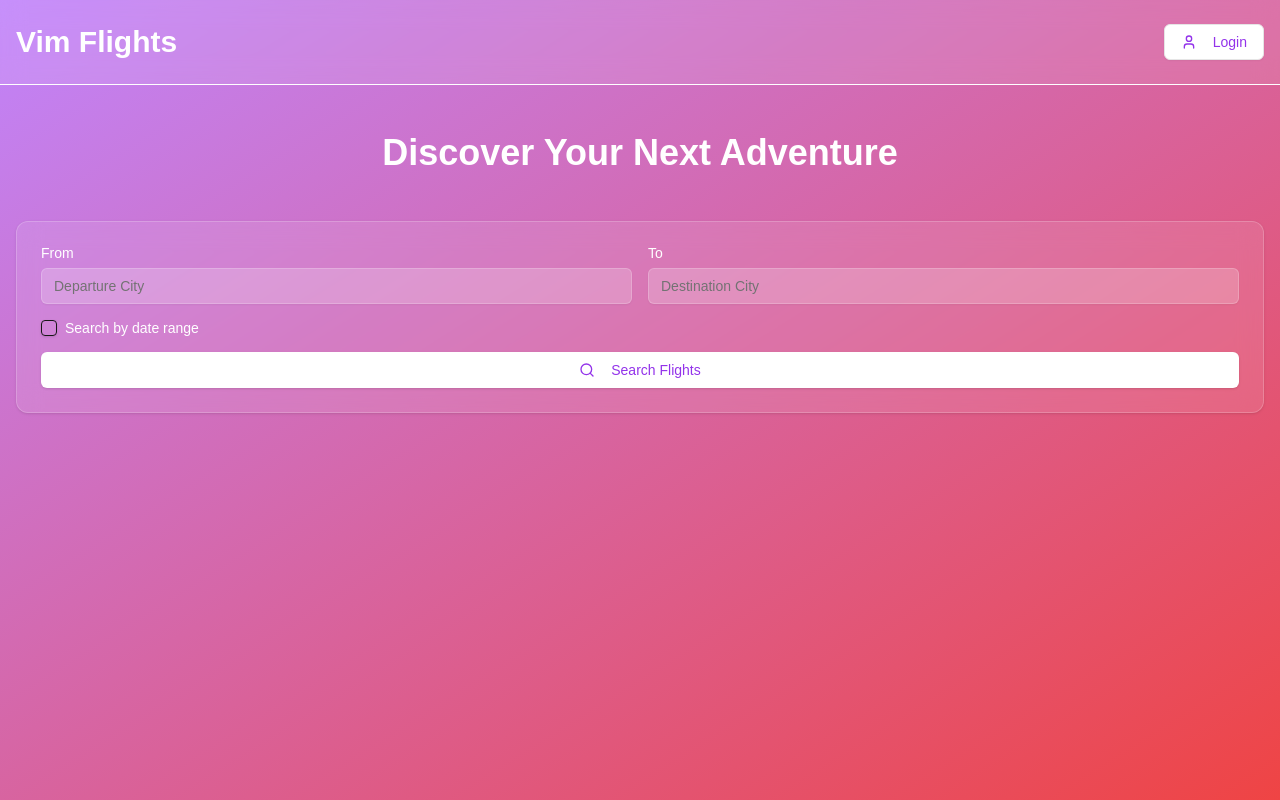
Test: Home component › fetches cities for autocomplete
This screenshot has width=1280, height=800.
In the field labelled "From": (336, 286) [41,268,632,304], type "New"
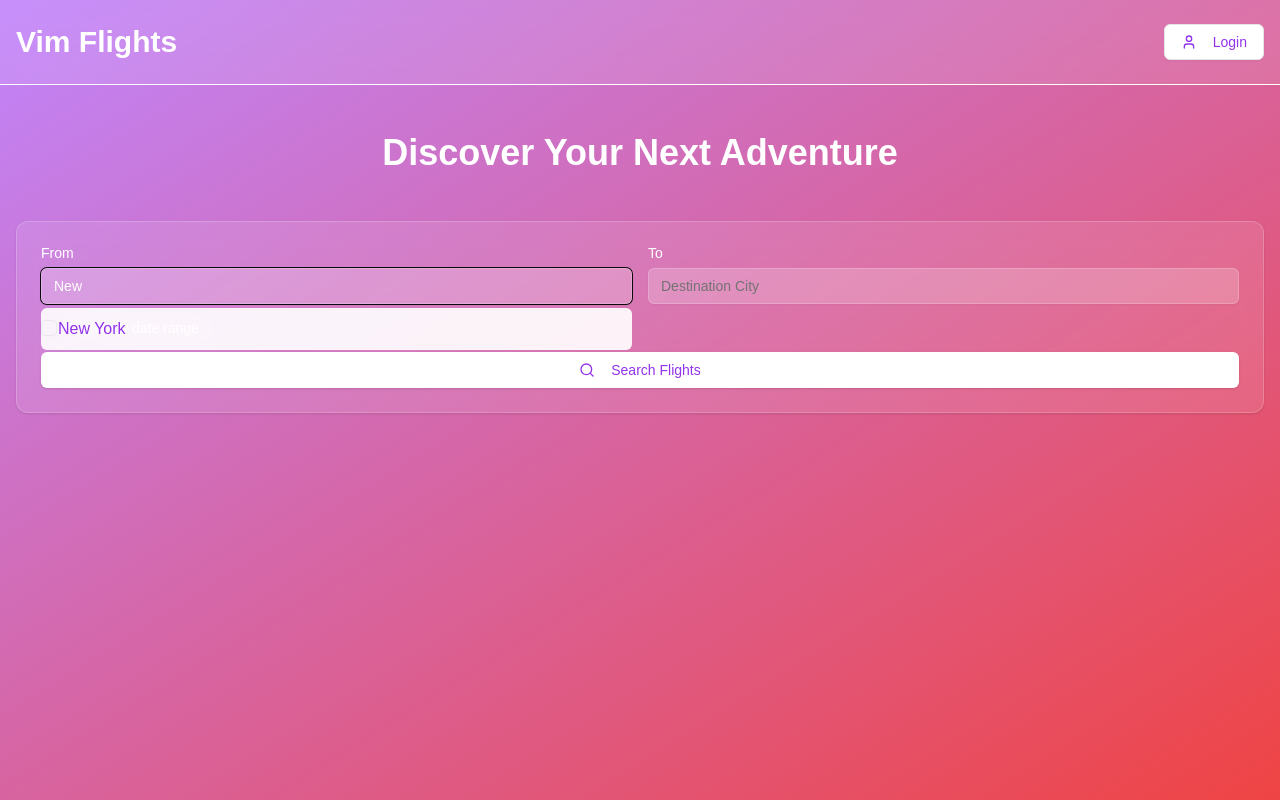
Check: the list item "New York" is shown, box [58,320,126,337]
